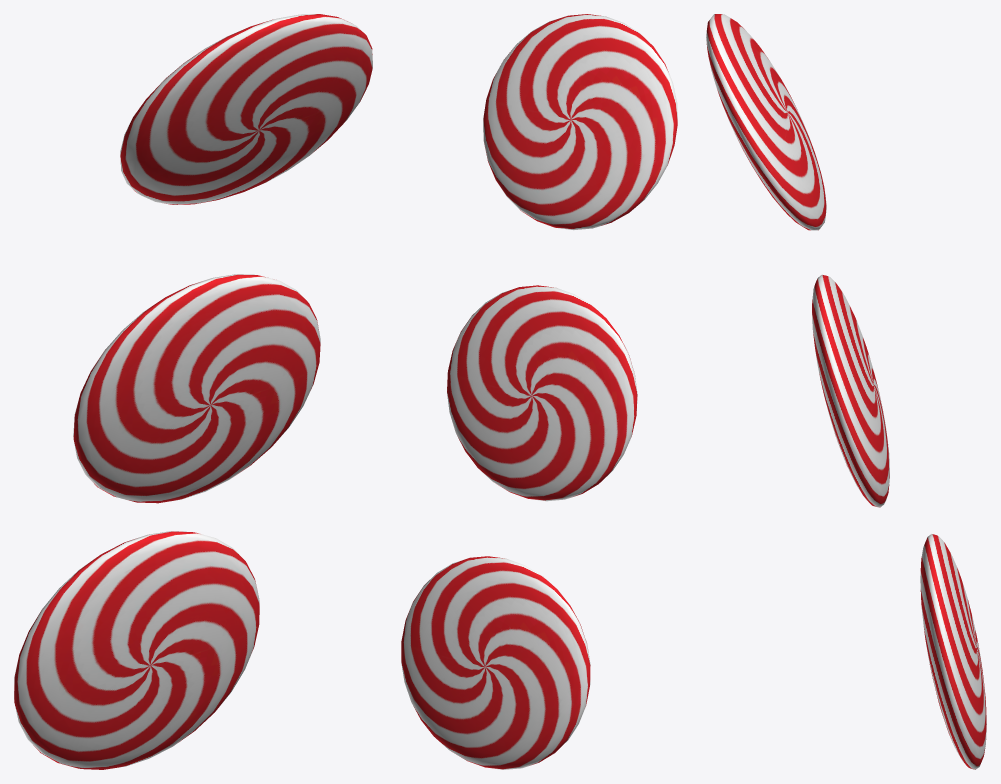
The model's file is item-peppermint-buttons.glb.
3 views of the same model, side by side, from view 1: azimuth 30°, elevation 25°; view 2: azimuth 150°, elevation 25°; view 3: azimuth 270°, elevation 25° (orthographic). The views are drawn at different scales.
Bounding box in the file's own units: 0.0349 × 0.1173 × 0.0407.
Materials: 1 (1 with a texture image).
